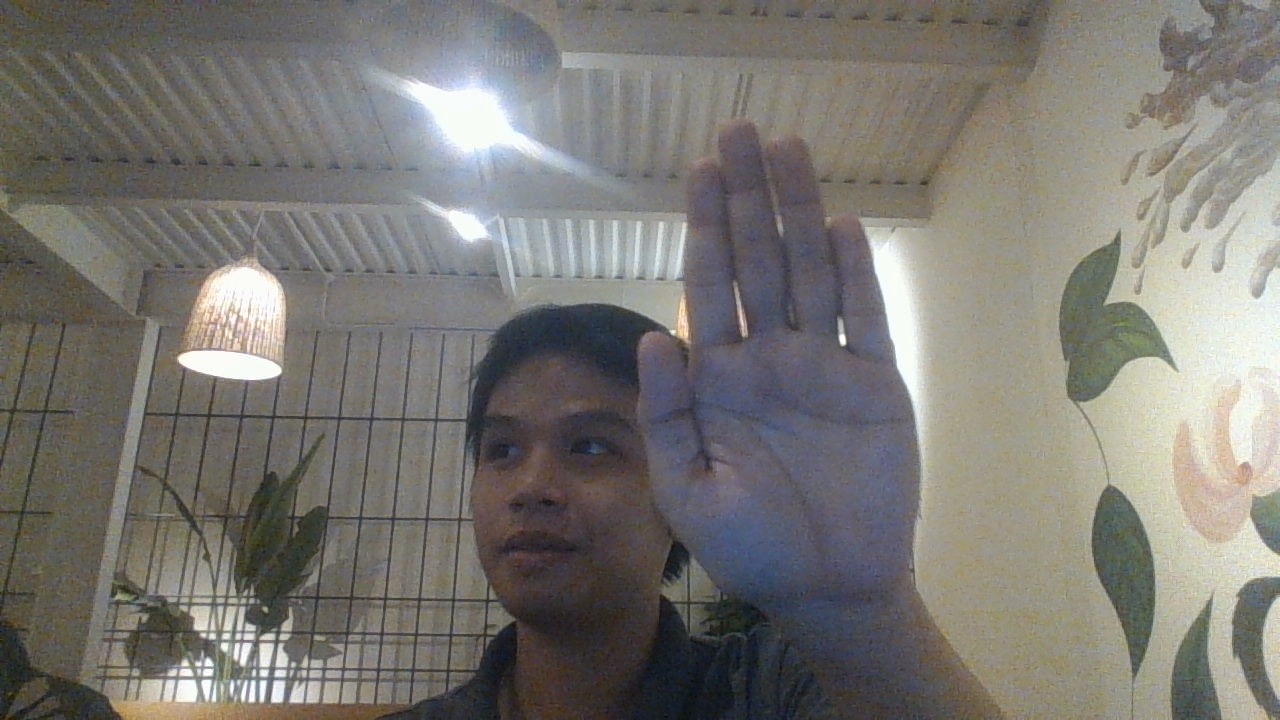check: (631, 113, 927, 619)
